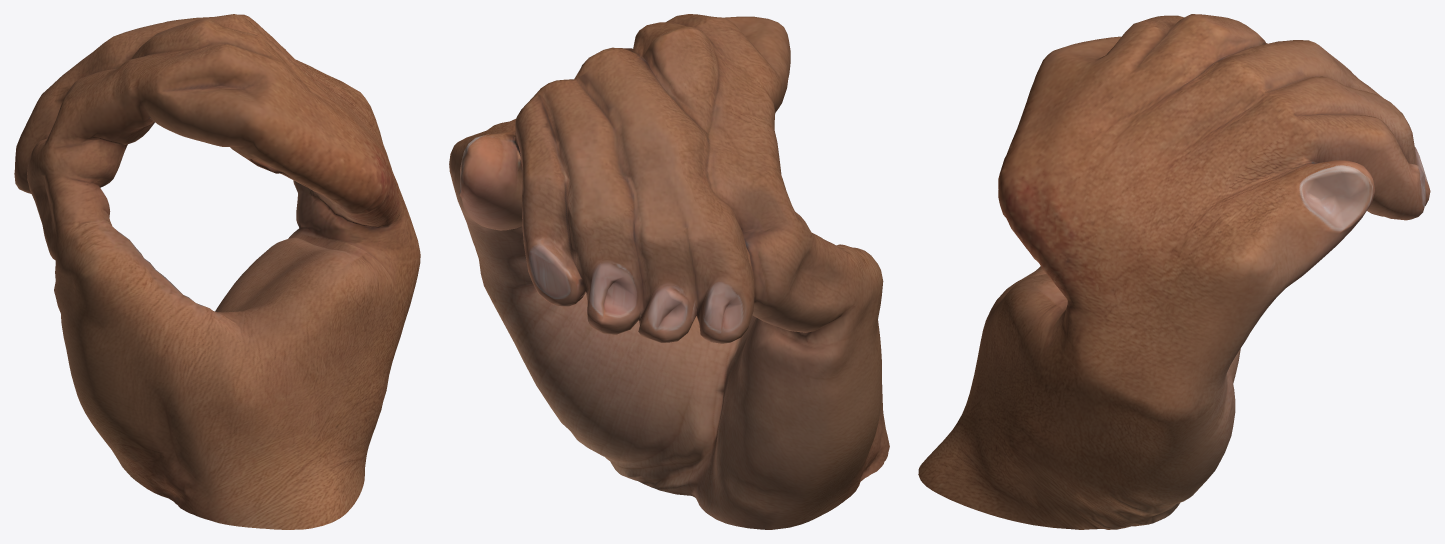
File: SM_CH_ROK_SupportHand_M1.fbx
3 views of the same model, side by side, from view 1: azimuth 30°, elevation 25°; view 2: azimuth 150°, elevation 25°; view 3: azimuth 270°, elevation 25° (orthographic). The views are drawn at different scales.
Parts seen in each view (by area): view 1: SM_CH_ROK_SupportHand_M1; view 2: SM_CH_ROK_SupportHand_M1; view 3: SM_CH_ROK_SupportHand_M1.
Part boxes in pixels (box(x1,y1,x2,y2)): SM_CH_ROK_SupportHand_M1: box(14, 14, 420, 529); SM_CH_ROK_SupportHand_M1: box(449, 14, 889, 529); SM_CH_ROK_SupportHand_M1: box(918, 14, 1430, 529).
Bounding box in the file's own units: 0.1799 × 0.211 × 0.2123.
Materials: 1 (1 with a texture image).
